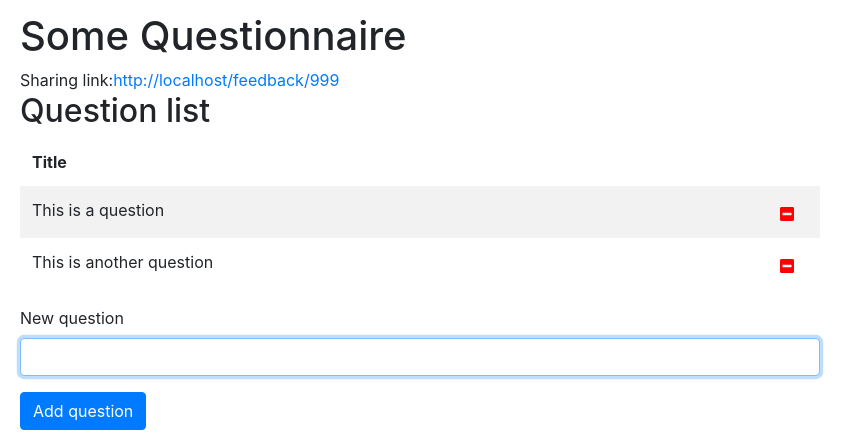
it: Adding questions to the list › deletes questions from the list
The image size is (841, 447).
Expected: the heading "Some Questionnaire" is shown, x1=20 y1=11 x2=406 y2=60
Click the button with test id "delete-question" in the row of "This is a question": (787, 212) x1=766 y1=198 x2=808 y2=226
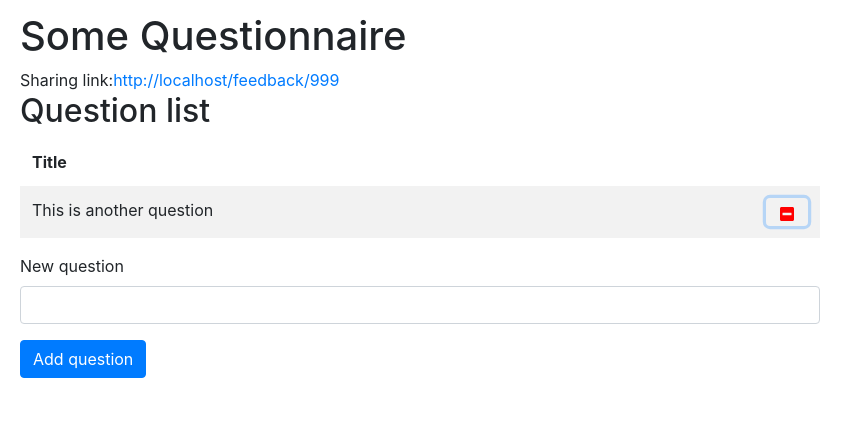
Expected: the heading "Some Questionnaire" is shown, x1=20 y1=11 x2=406 y2=60
Result: the number of rows with test id "question" is 1 at x1=20 y1=186 x2=820 y2=238
Result: the row with test id "question" reads "This is another question" at x1=32 y1=200 x2=213 y2=220
